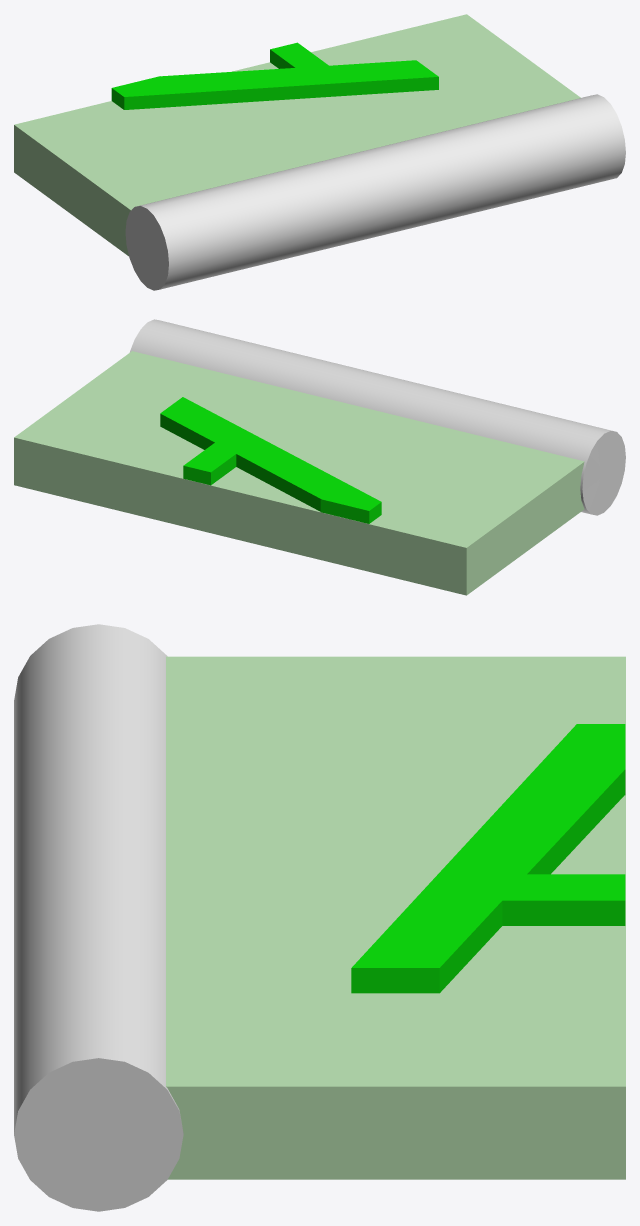
The model's file is A_Left.fbx.
3 renders of one model, top to bottom at view 1: azimuth 30°, elevation 25°; view 2: azimuth 150°, elevation 25°; view 3: azimuth 270°, elevation 25°, orthographic. The views are drawn at different scales.
Visible parts, largest first — view 1: polySurface4; view 2: polySurface4; view 3: polySurface4.
Part boxes in pixels (left/top/right/bottom): polySurface4: left=14, top=14, right=625, bottom=290; polySurface4: left=14, top=319, right=625, bottom=595; polySurface4: left=14, top=624, right=625, bottom=1211.
Size of the model in its own units: 6.05 by 1 by 3.61.
